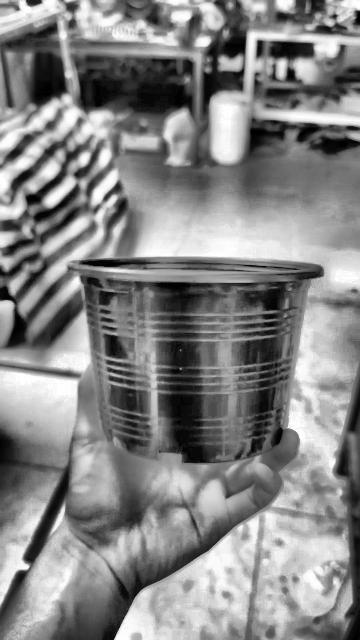pot: (69, 257, 321, 463)
